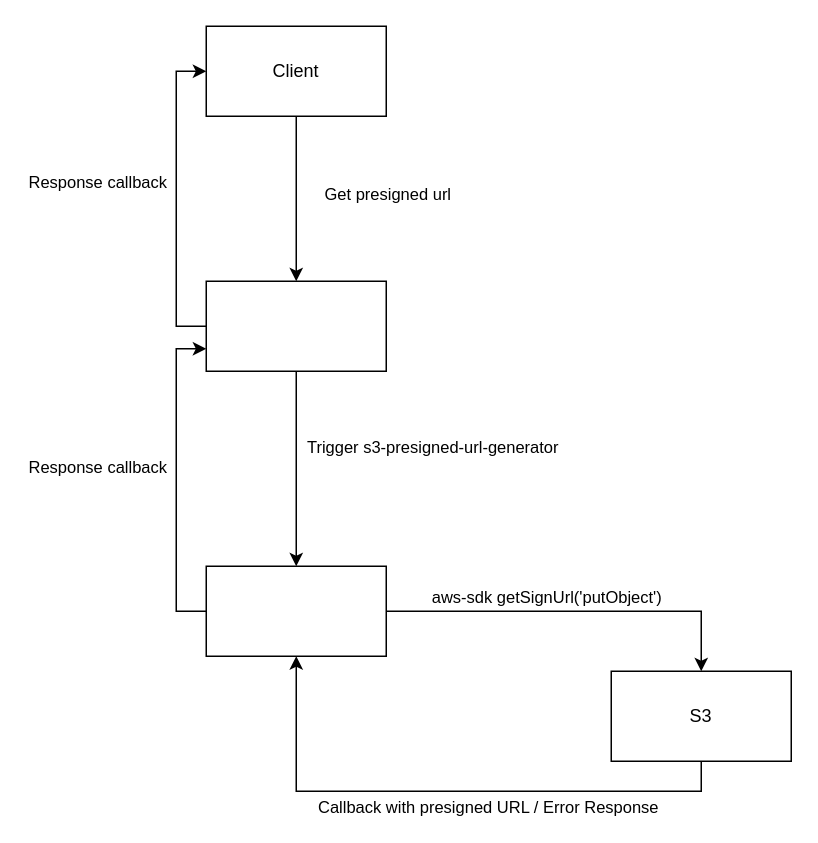
This 818x843 diagram has some shape labels left out. Here are the shapes that lost their labels. From the top down, the centre of each, then its label:
pixel 295 325: API Gateway
pixel 295 610: Lambda
